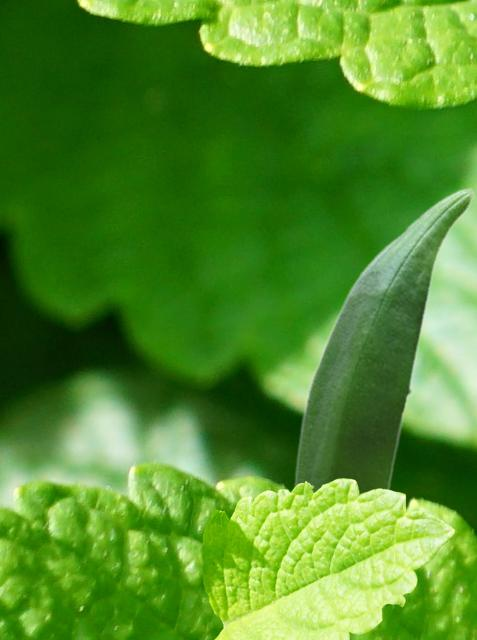okra: (290, 187, 474, 612)
